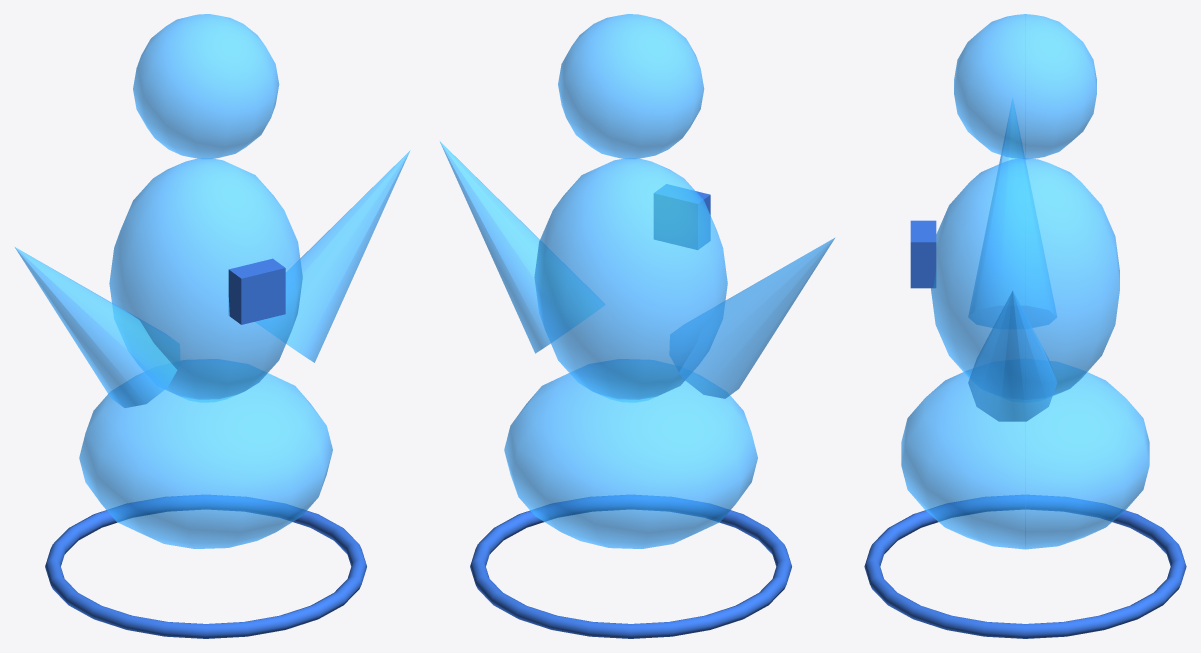
The model's file is water_elemental.glb.
The picture shows the model from 3 angles, left to right: view 1: azimuth 30°, elevation 25°; view 2: azimuth 150°, elevation 25°; view 3: azimuth 270°, elevation 25°; orthographic projection.
Visible parts, largest first — view 1: water-elemental-lower-surge, water-elemental-torso, water-elemental-head, water-elemental-summon-ring, water-elemental-left-wave-arm, water-elemental-right-wave-arm, water-elemental-team-core; view 2: water-elemental-lower-surge, water-elemental-torso, water-elemental-head, water-elemental-summon-ring, water-elemental-right-wave-arm, water-elemental-left-wave-arm, water-elemental-team-core; view 3: water-elemental-torso, water-elemental-lower-surge, water-elemental-head, water-elemental-summon-ring, water-elemental-left-wave-arm, water-elemental-right-wave-arm, water-elemental-team-core.
Boxes of the visible parts, <box> form: water-elemental-lower-surge: <box>79,359,332,548</box>; water-elemental-torso: <box>109,158,302,401</box>; water-elemental-head: <box>133,14,279,159</box>; water-elemental-summon-ring: <box>45,495,366,638</box>; water-elemental-left-wave-arm: <box>15,247,179,407</box>; water-elemental-right-wave-arm: <box>256,150,410,362</box>; water-elemental-team-core: <box>228,258,285,324</box>; water-elemental-lower-surge: <box>504,359,757,548</box>; water-elemental-torso: <box>534,158,727,401</box>; water-elemental-head: <box>558,14,704,159</box>; water-elemental-summon-ring: <box>470,495,791,638</box>; water-elemental-right-wave-arm: <box>439,141,604,353</box>; water-elemental-left-wave-arm: <box>670,237,835,398</box>; water-elemental-team-core: <box>654,184,710,249</box>; water-elemental-torso: <box>931,159,1119,399</box>; water-elemental-lower-surge: <box>901,361,1149,549</box>; water-elemental-head: <box>954,14,1096,159</box>; water-elemental-summon-ring: <box>864,495,1186,638</box>; water-elemental-left-wave-arm: <box>969,99,1056,327</box>; water-elemental-right-wave-arm: <box>968,290,1057,421</box>; water-elemental-team-core: <box>910,220,936,288</box>.
Size of the model in its own units: 1.43 by 1.92 by 1.01.
